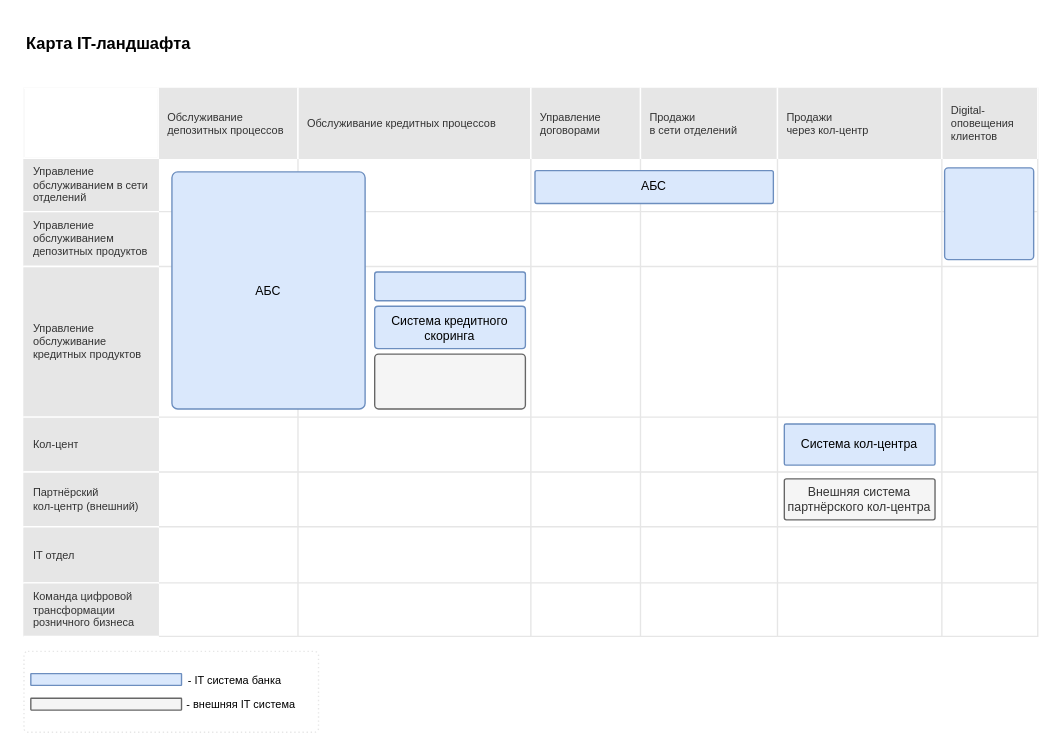
Image size: 1062x756. Some labels were removed from this diagram. The shapes that lost their labels are listed below. From the top down, each one's centre as x and y in pixels, then its label:
At point (988, 213): "СМС-шлюз".
At point (449, 286): "Кредитный конвеер".
At point (449, 381): "Бюро кредитных историй REST API".
